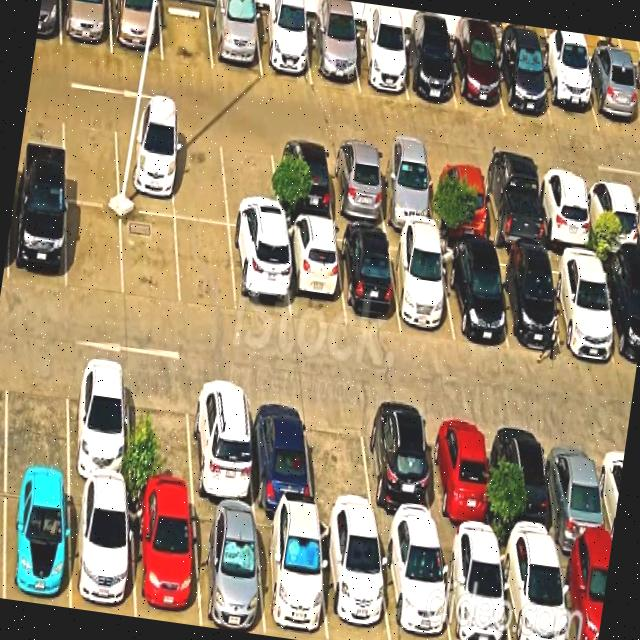empty: (305, 397, 375, 526), (128, 369, 194, 500), (6, 353, 68, 479), (221, 132, 280, 233), (171, 125, 228, 224), (176, 219, 236, 312), (122, 211, 180, 307), (63, 108, 119, 207), (67, 202, 123, 297), (160, 0, 213, 70)
occupied: (361, 405, 437, 534), (192, 502, 265, 635), (130, 494, 200, 626), (424, 411, 494, 542), (256, 512, 327, 640), (3, 477, 69, 608), (70, 484, 135, 617), (319, 519, 390, 640), (544, 426, 611, 554), (189, 378, 254, 509), (247, 387, 313, 514), (494, 419, 557, 548), (68, 359, 130, 490), (378, 530, 451, 640), (546, 253, 617, 361), (438, 535, 510, 640), (439, 245, 508, 349), (490, 250, 560, 351), (388, 235, 454, 341), (498, 543, 569, 640), (336, 228, 401, 331), (283, 221, 345, 326), (115, 117, 174, 217), (9, 189, 66, 290), (479, 166, 544, 251), (230, 228, 290, 320), (272, 139, 334, 223), (427, 159, 489, 242), (375, 151, 436, 232), (537, 53, 599, 132), (326, 146, 386, 227), (557, 549, 610, 640), (535, 172, 594, 252), (581, 58, 640, 137), (494, 44, 552, 124), (599, 259, 640, 370), (584, 177, 640, 258), (448, 38, 504, 116), (255, 11, 312, 85), (399, 35, 456, 108), (351, 28, 408, 100), (208, 3, 262, 78), (306, 22, 359, 91), (110, 0, 162, 60), (61, 0, 112, 53)
